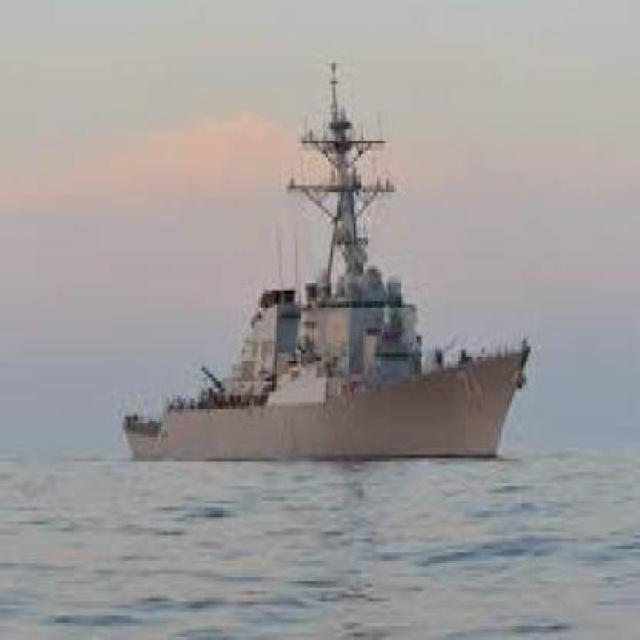warship2: (92, 46, 541, 473)
